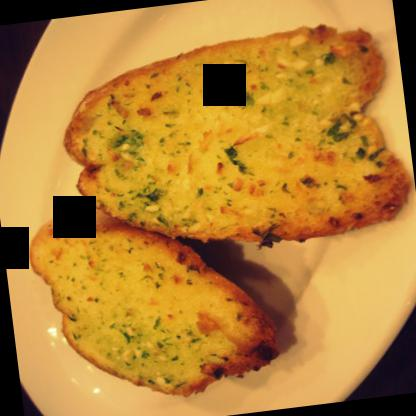toast bread: (53, 19, 407, 258), (26, 182, 286, 404)
